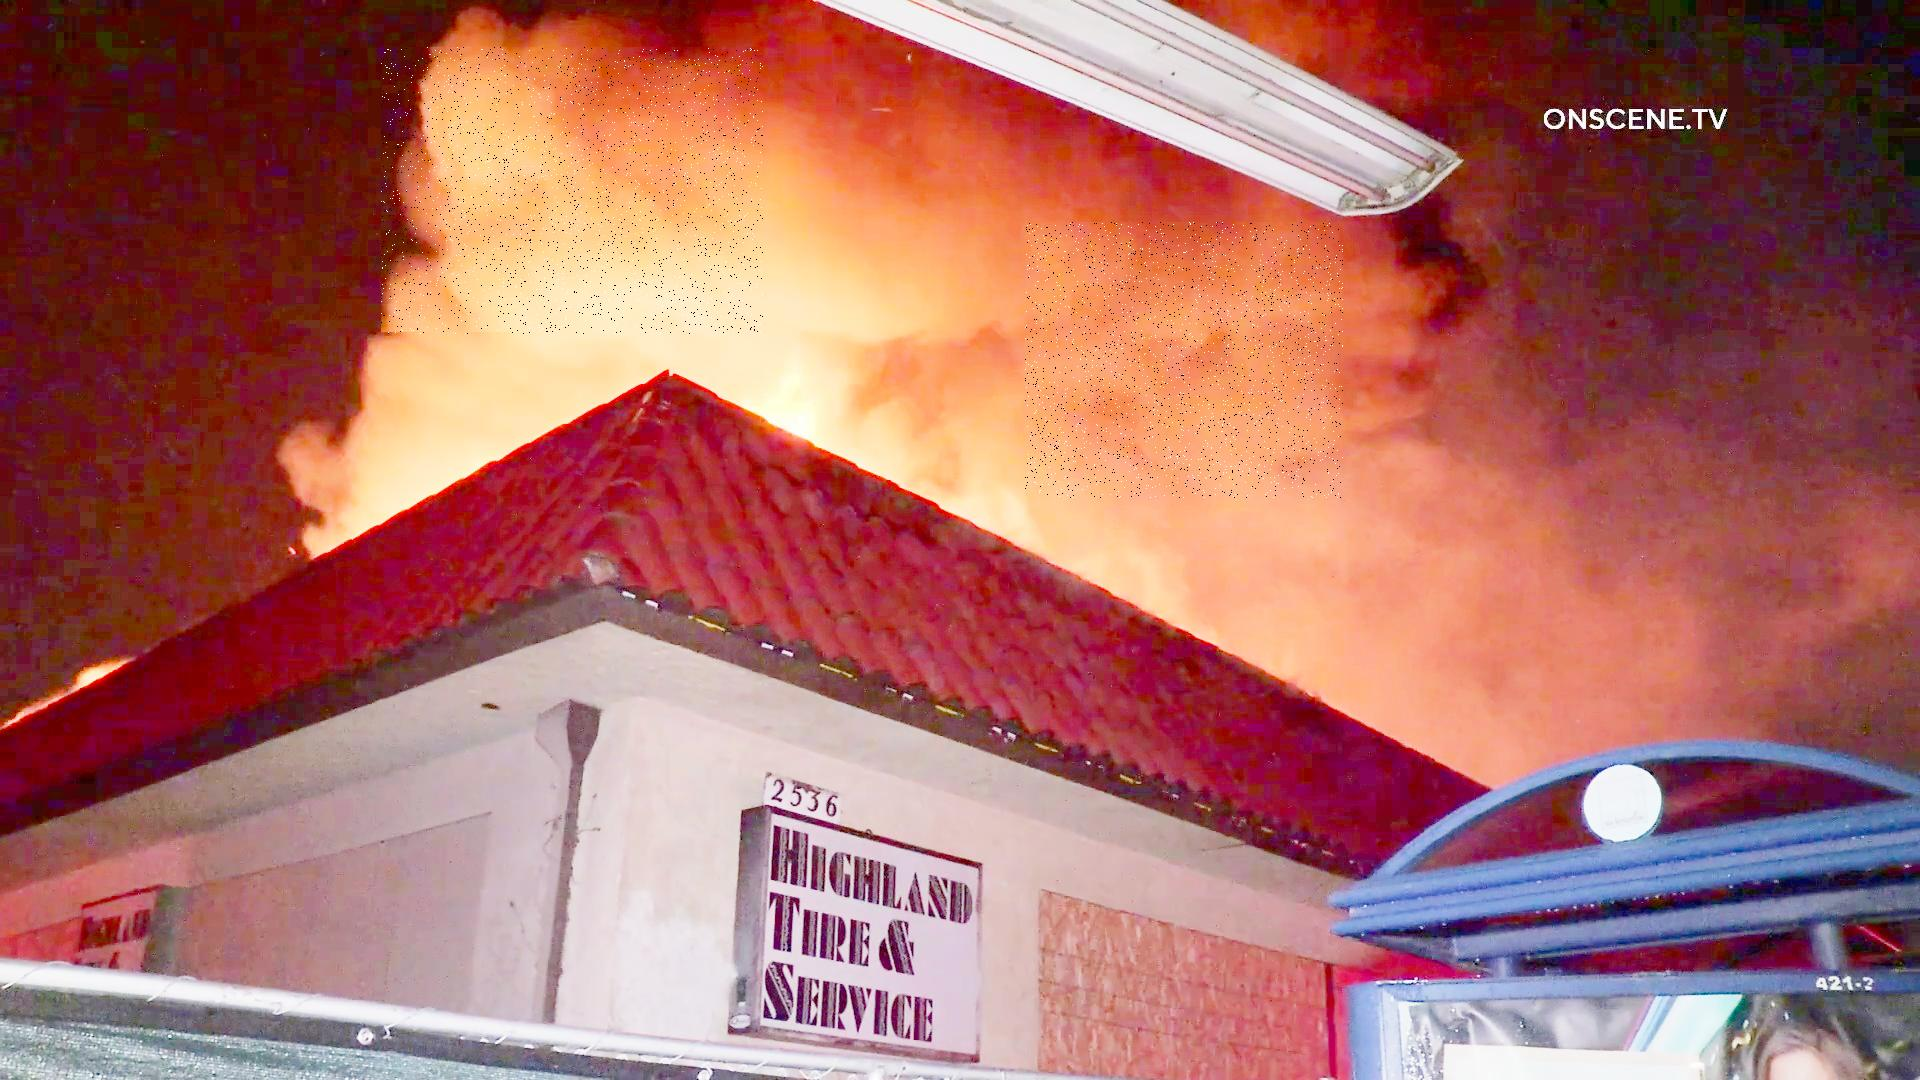smoke: (381, 47, 764, 335), (1025, 223, 1344, 498)
